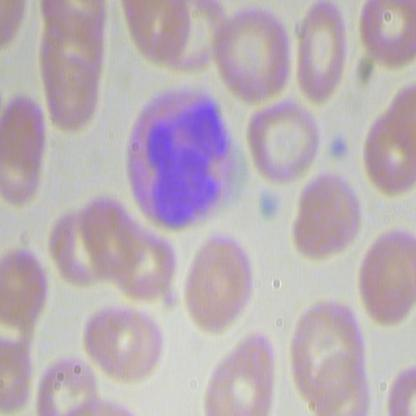Platelets: (250, 188, 285, 229), (329, 135, 348, 162)
RBC: (181, 229, 259, 340), (210, 5, 294, 106), (79, 296, 166, 383), (291, 164, 364, 266), (244, 100, 324, 186), (352, 224, 415, 332), (199, 327, 276, 415), (1, 88, 49, 211), (294, 1, 349, 103), (358, 107, 415, 202), (359, 1, 415, 74)
WBC: (114, 80, 242, 232)
